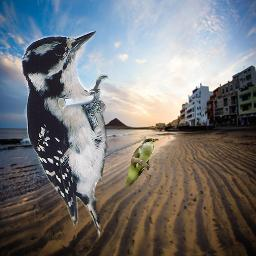Cuckoo: (124, 138, 159, 189)
Woodpecker: (21, 31, 112, 239)
